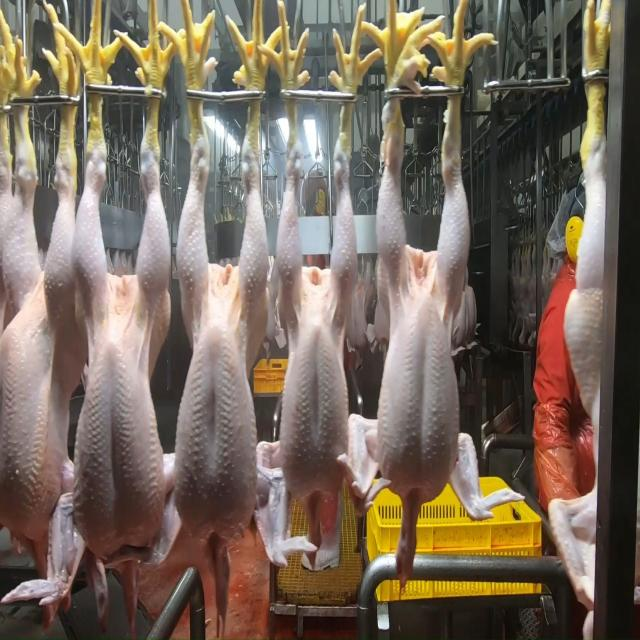chicken: (167, 124, 270, 537), (371, 117, 477, 494), (78, 140, 169, 553), (268, 147, 363, 507), (0, 139, 80, 536), (562, 152, 604, 423)
